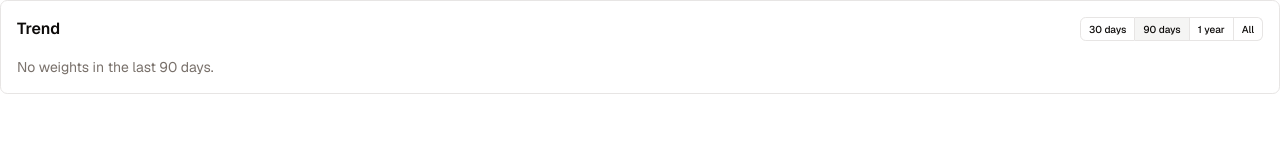
WeightChart › says when the range has no weights
The width and height of the screenshot is (1280, 160).
Click the button "30 days": click(1108, 29) [1080, 17, 1135, 41]
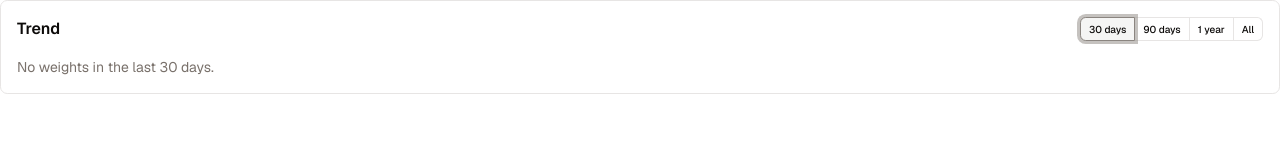
Expected: the text "No weights in the last 30 days." is shown, [17, 58, 214, 76]
